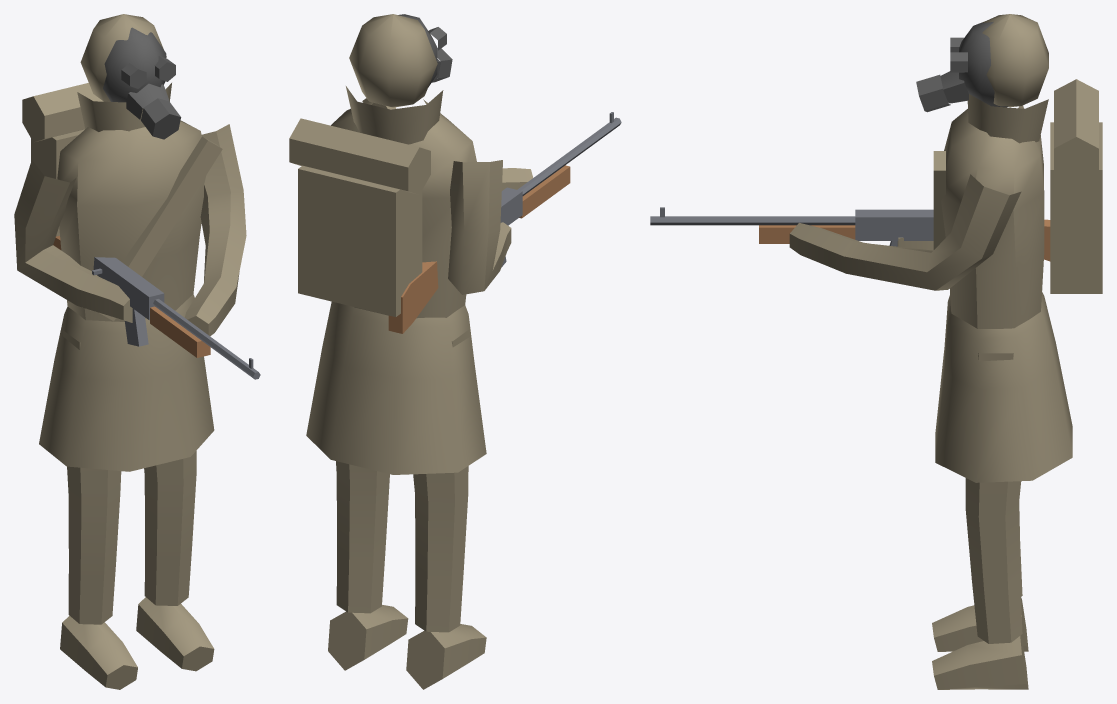
Rendered from raider.glb.
The picture shows the model from 3 angles, left to right: view 1: azimuth 30°, elevation 25°; view 2: azimuth 150°, elevation 25°; view 3: azimuth 270°, elevation 25°; orthographic projection. The views are drawn at different scales.
Parts seen in each view (by area): view 1: torso, hips, leg_r, leg_l, arm_r, arm_l, head, rifle, hood, rifle_wood; view 2: torso, hips, leg_r, leg_l, arm_r, hood, rifle_wood, rifle, head, arm_l; view 3: torso, hips, leg_l, arm_l, hood, rifle, head, leg_r, rifle_wood.
Part boxes in pixels (x1,y1,x2,y2): torso: [22, 83, 222, 321]; hips: [39, 294, 214, 471]; leg_r: [60, 330, 137, 689]; leg_l: [136, 451, 214, 671]; arm_r: [14, 160, 132, 322]; arm_l: [184, 124, 246, 336]; head: [103, 27, 181, 139]; rifle: [92, 257, 260, 379]; hood: [80, 14, 166, 101]; rifle_wood: [53, 236, 210, 357]; torso: [289, 86, 476, 318]; hips: [306, 301, 486, 474]; leg_r: [406, 329, 486, 689]; leg_l: [328, 461, 408, 670]; arm_r: [448, 160, 511, 294]; hood: [349, 14, 437, 107]; rifle_wood: [388, 165, 570, 333]; rifle: [500, 112, 621, 267]; head: [398, 14, 452, 87]; arm_l: [502, 168, 533, 190]; torso: [933, 79, 1102, 328]; hips: [935, 292, 1072, 482]; leg_l: [932, 353, 1028, 689]; arm_l: [789, 174, 1021, 290]; hood: [982, 14, 1048, 107]; rifle: [650, 207, 933, 246]; head: [916, 21, 1008, 112]; leg_r: [932, 502, 1028, 651]; rifle_wood: [759, 219, 1050, 261].
Size of the model in its own units: 0.5787 by 1.8 by 1.12.
